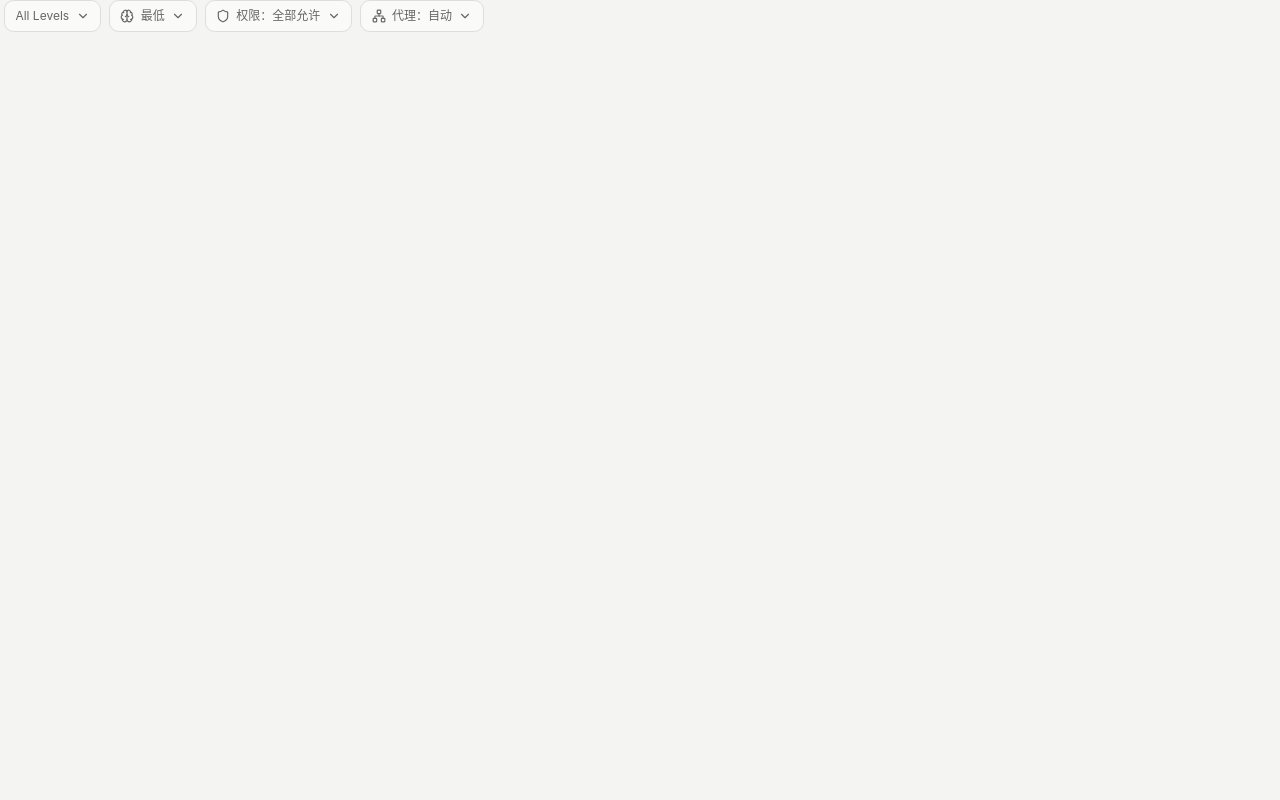
Test: ModelControls › 全部已知 Thinking 档位使用中文标签
The width and height of the screenshot is (1280, 800).
Click the button with aria-label "选择推理强度". click: click(153, 16)
box: [109, 0, 196, 32]
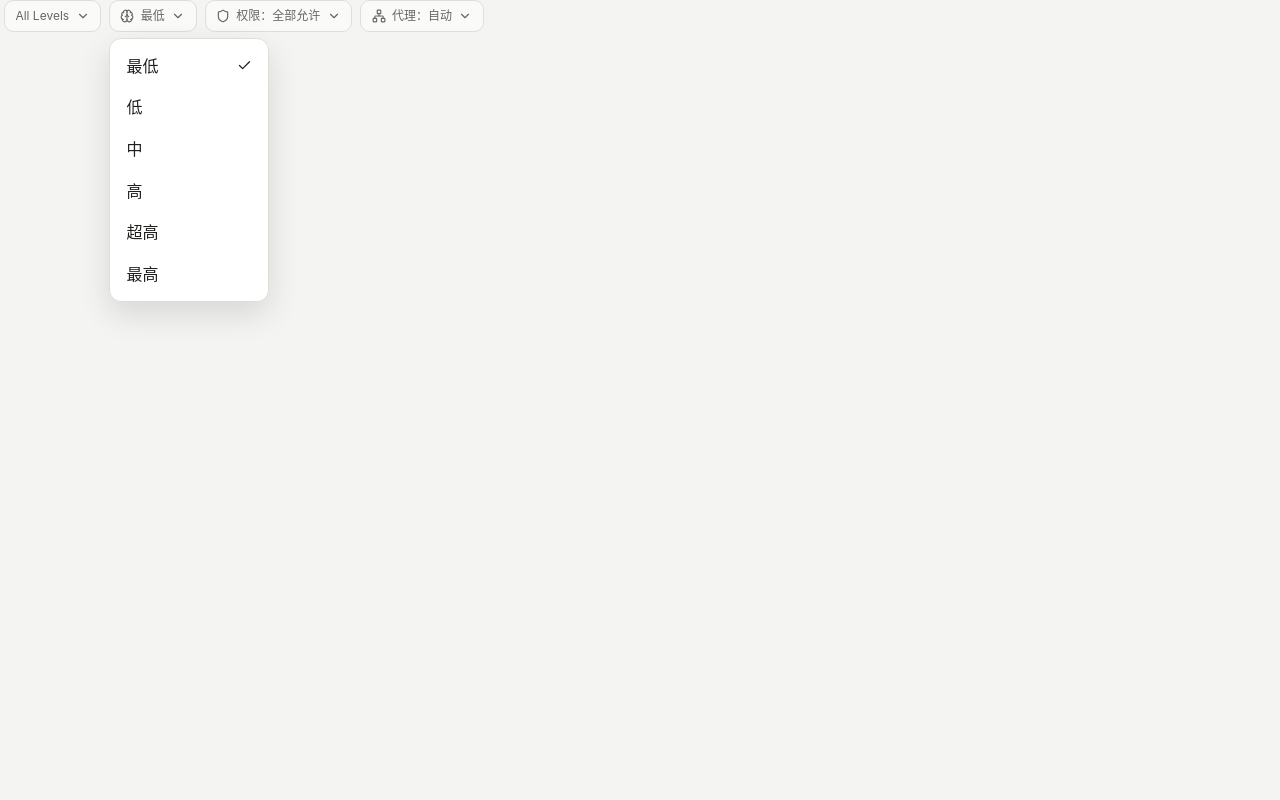
Expected: the 2nd button "最低" is shown, [116, 45, 262, 87]
Expected: the button "低" is shown, [116, 87, 262, 128]
Expected: the button "中" is shown, [116, 128, 262, 170]
